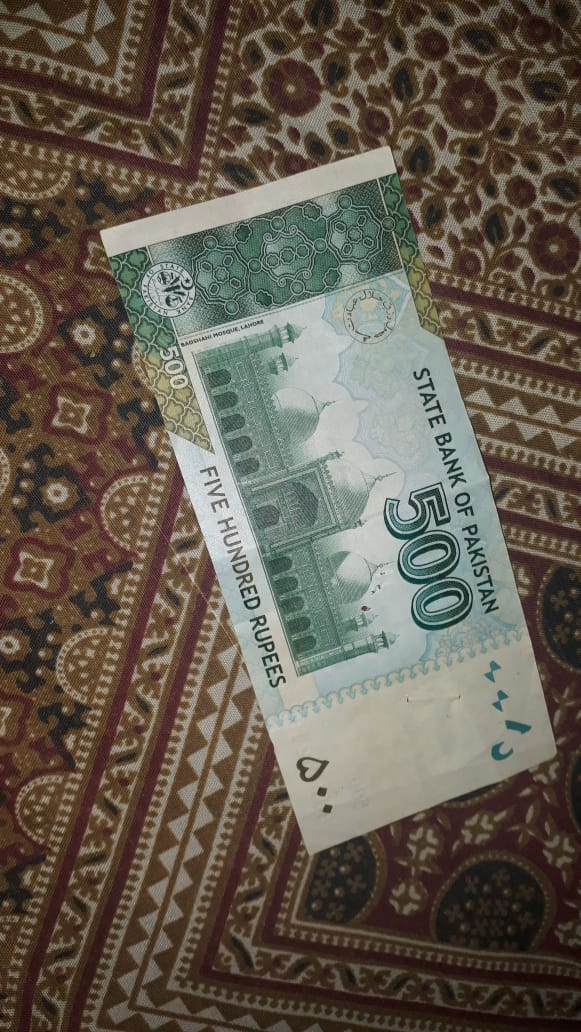500 rupee: (95, 149, 547, 883)
